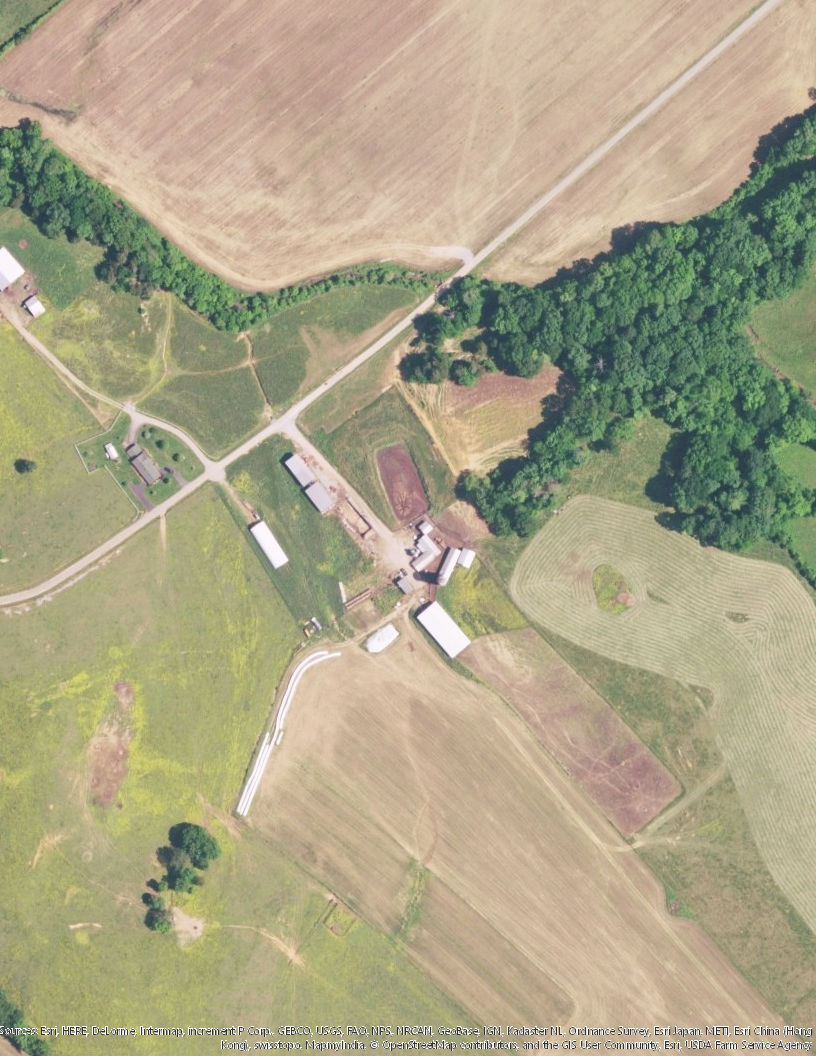cafo: (412, 601, 475, 664), (287, 450, 340, 523), (245, 515, 292, 574), (438, 543, 483, 585), (411, 519, 440, 573)
